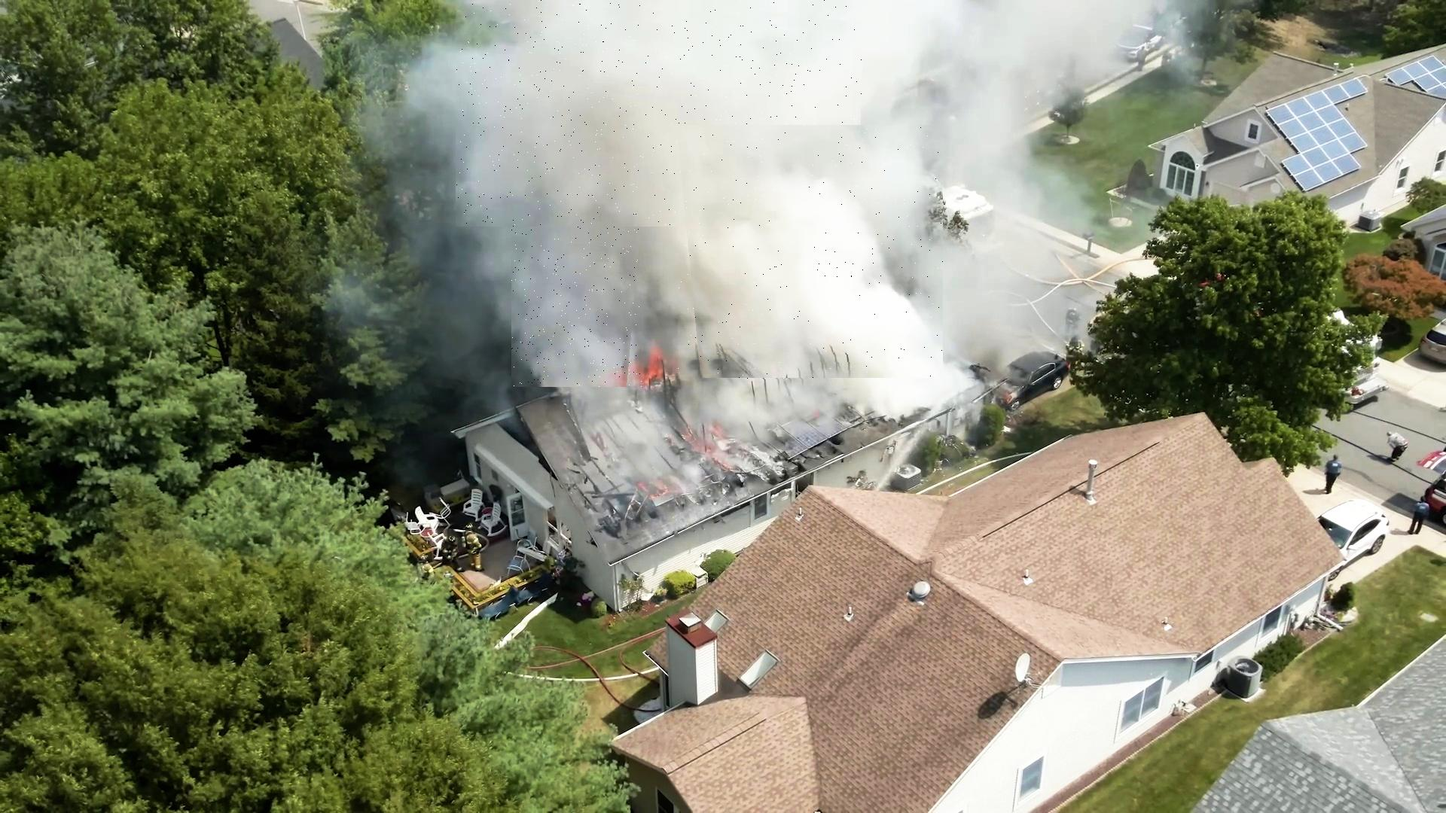smoke: (456, 0, 863, 227), (679, 126, 945, 380), (512, 227, 642, 389)
